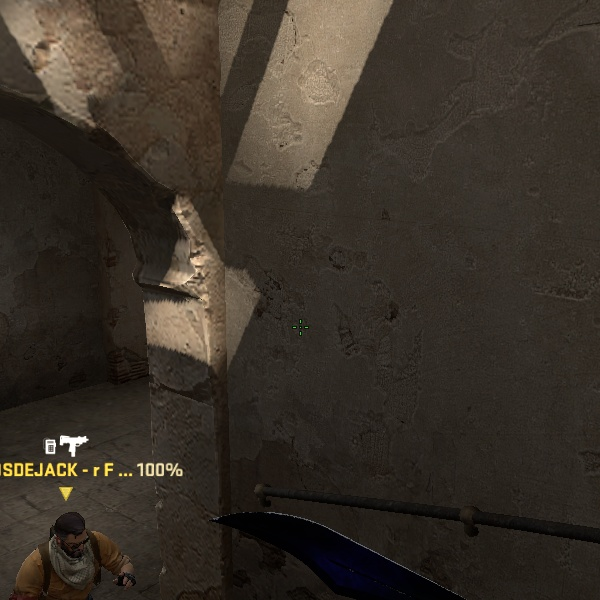t_body: (7, 508, 131, 600)
t_head: (44, 509, 97, 560)
